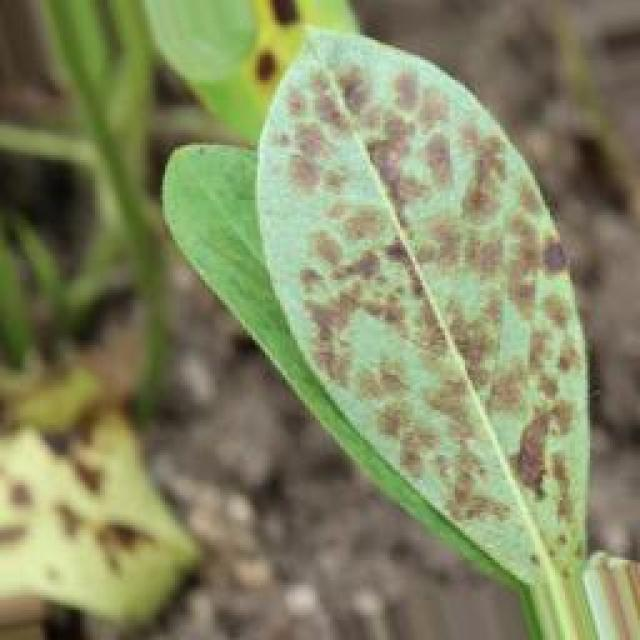Whitefly: (244, 28, 585, 588)
